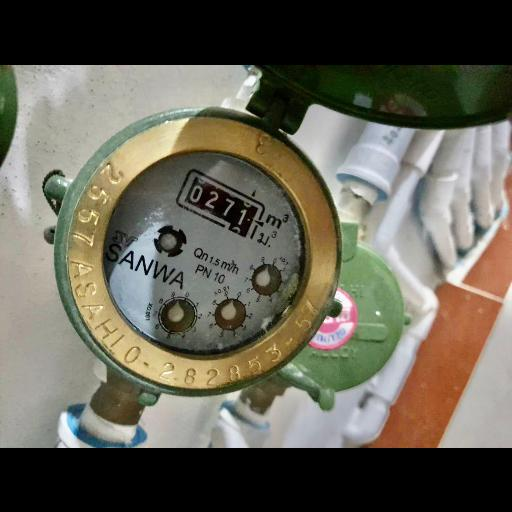0: (184, 175, 211, 207)
1: (228, 199, 260, 237)
2: (198, 183, 226, 215)
7: (214, 191, 243, 223)
border_water_meter_number: (173, 166, 269, 240)
